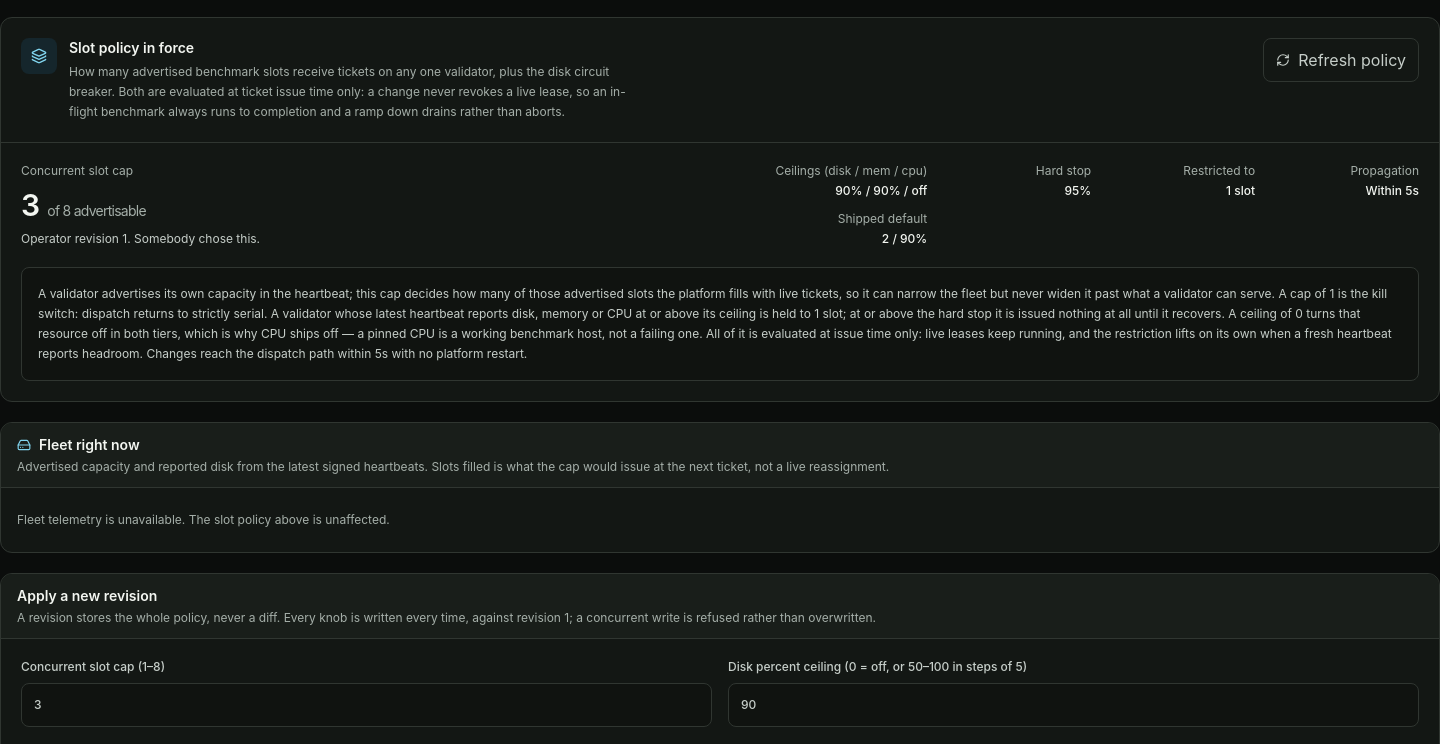
Test: ValidatorSlotControlPanel › surfaces a concurrent-write refusal instead of clobbering it
Replace the text in the number field labelled "Concurrent slot cap (1–8)" with "4" at coordinates (366, 705), box [21,683,712,727]
(page scrolled)
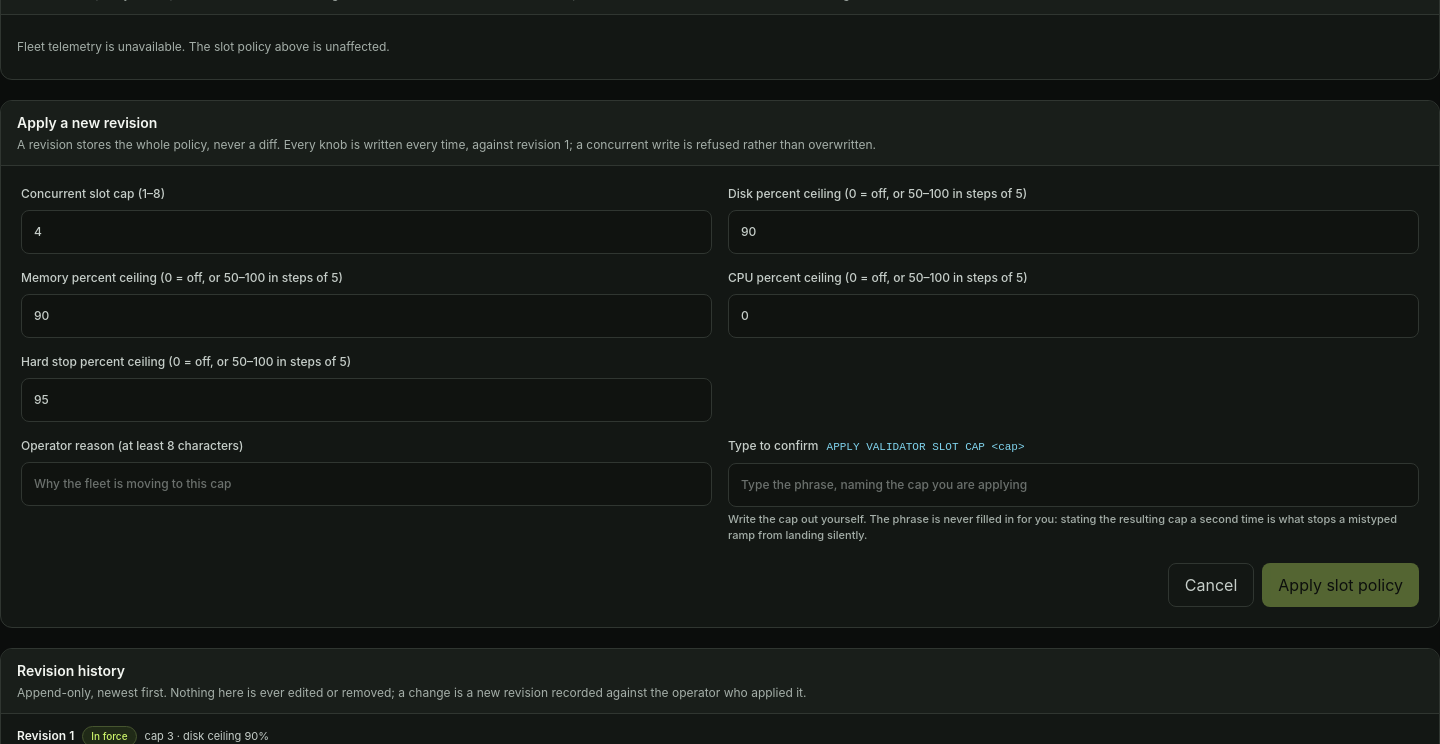
Type "ramp to four now that three has been stable for a day" into the field labelled "Operator reason (at least 8 characters)" at coordinates (366, 484), box [21,462,712,506]
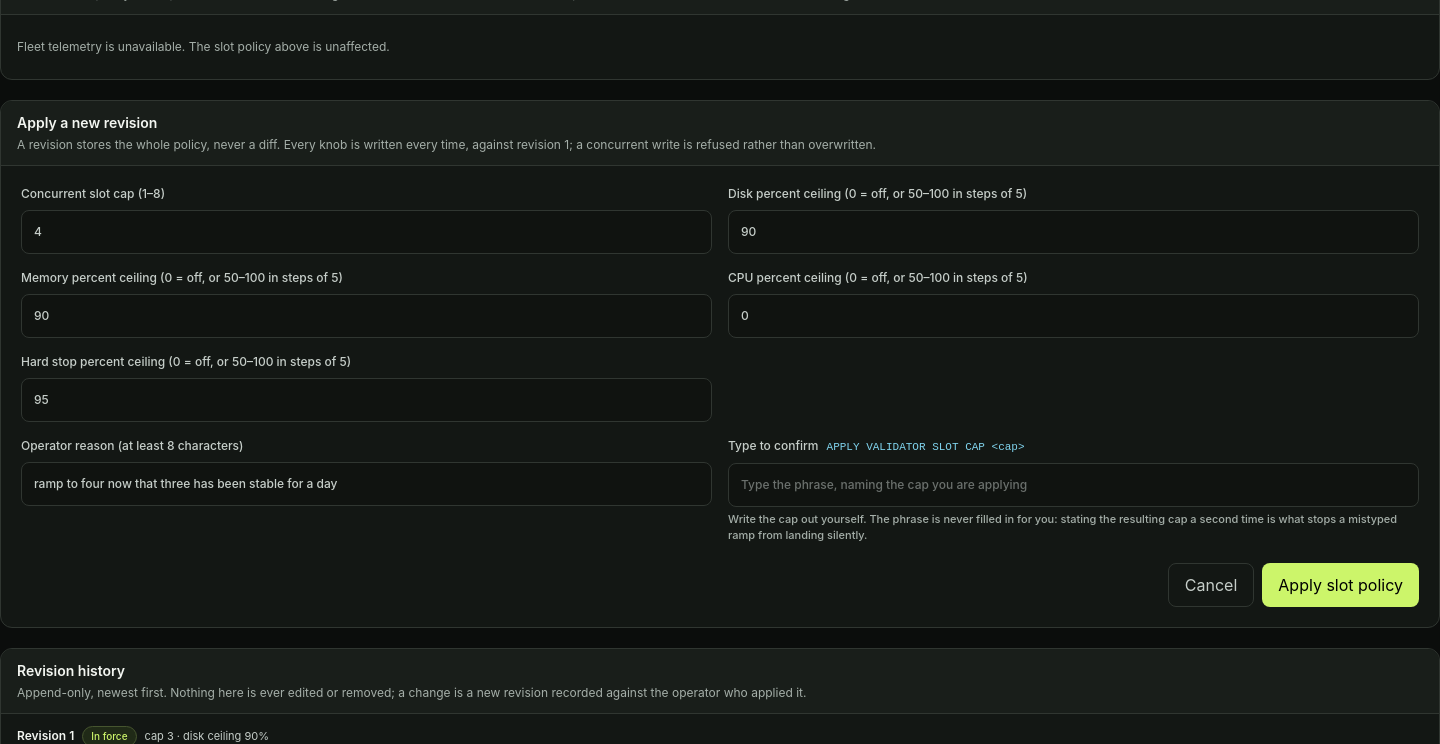
Type "APPLY VALIDATOR SLOT CAP 4" into the field labelled "Type to confirm" at coordinates (1074, 485), box [728,463,1419,507]
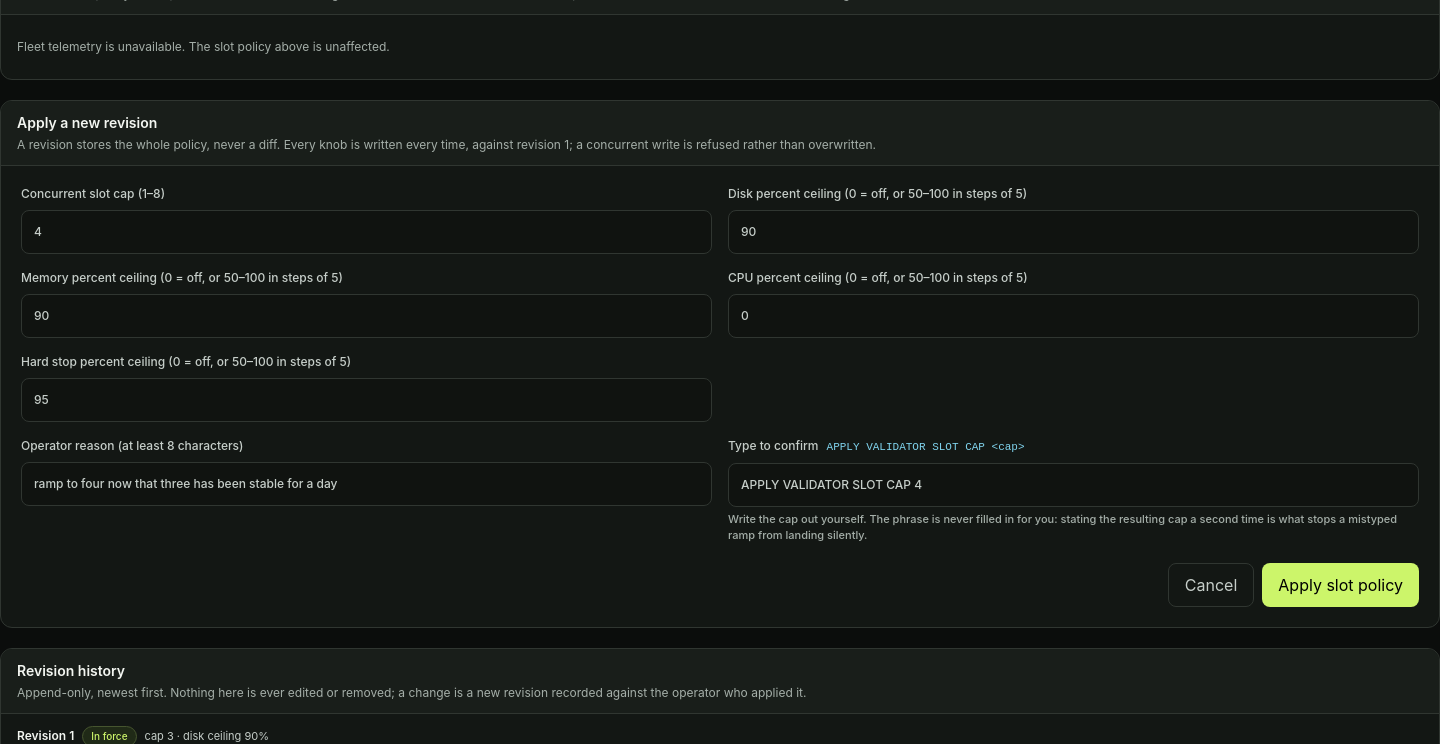
Click the button "Apply slot policy" at coordinates (1341, 585), box [1262,563,1419,607]
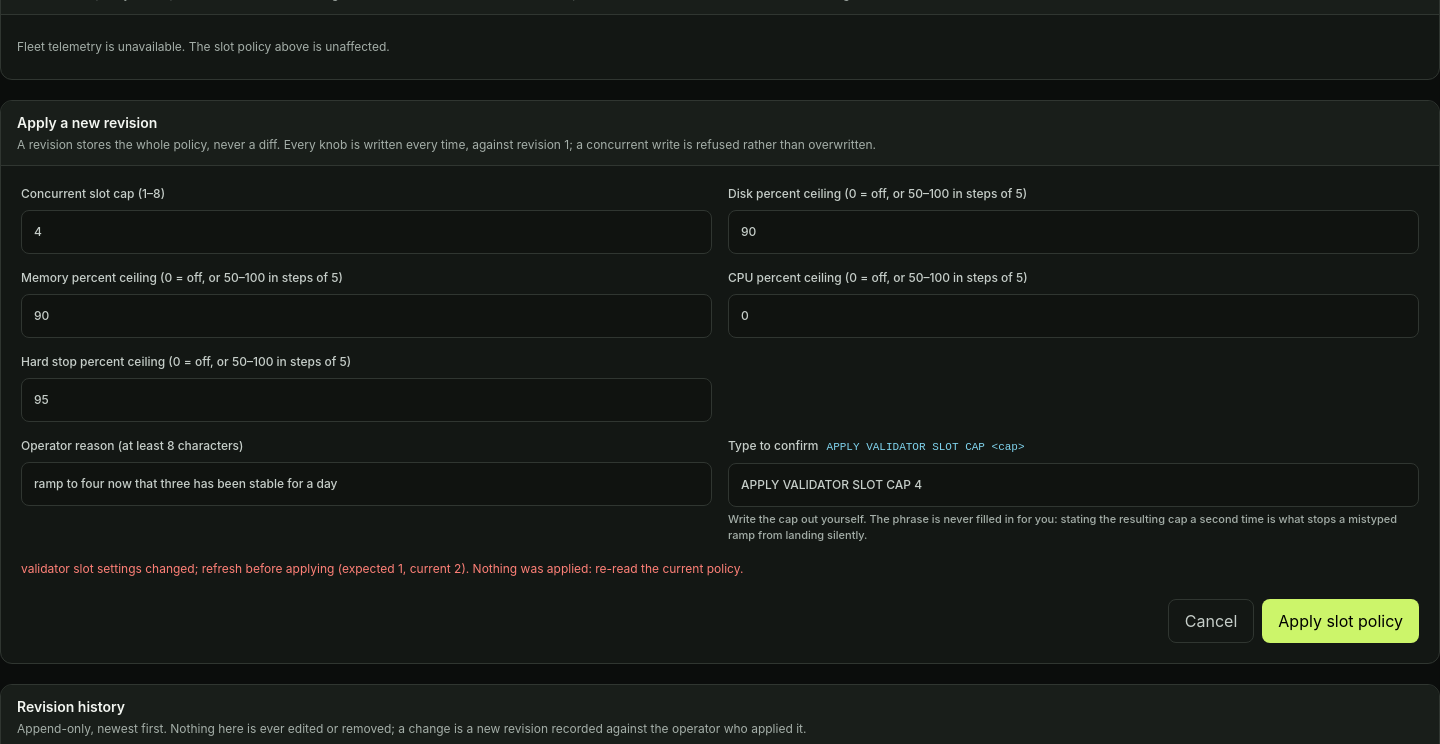
Check: the text "expected 1, current 2" is shown, box [21,561,743,576]
